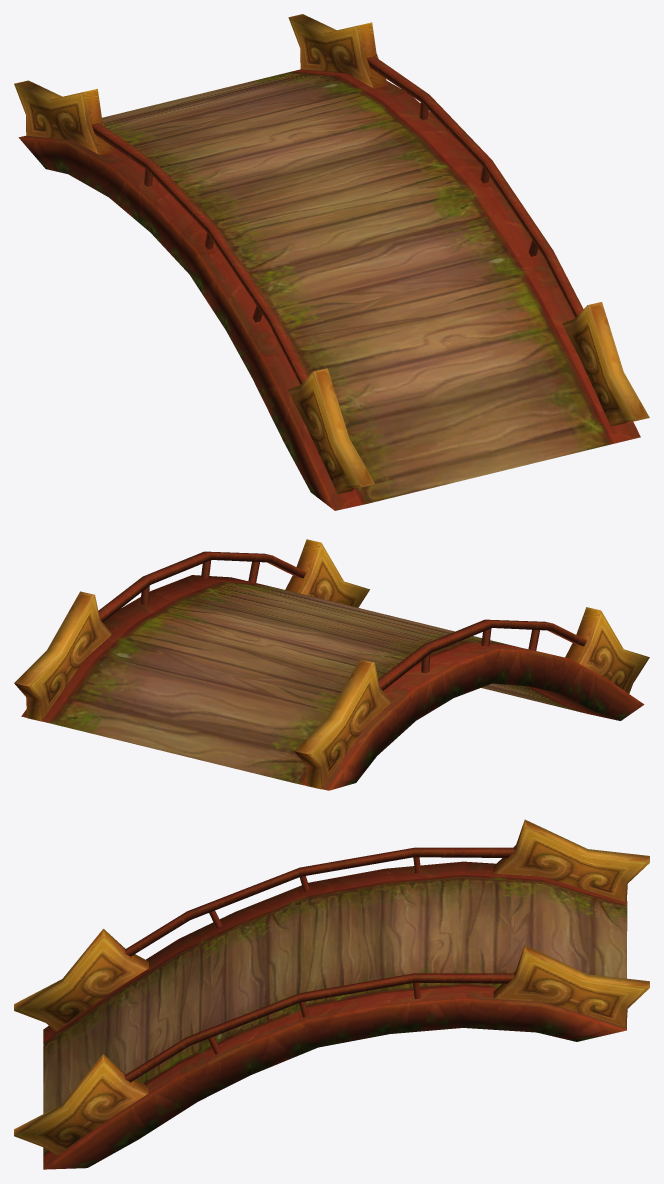
The model's file is environment_Building_jianmushenshu_001_g.FBX.
The picture shows the model from 3 angles, top to bottom: view 1: azimuth 30°, elevation 25°; view 2: azimuth 150°, elevation 25°; view 3: azimuth 270°, elevation 25°; orthographic projection. The views are drawn at different scales.
Parts seen in each view (by area): view 1: environment_Building_jianmushenshu_001_g; view 2: environment_Building_jianmushenshu_001_g; view 3: environment_Building_jianmushenshu_001_g.
Part boxes in pixels (box(x1,y1,x2,y2)): environment_Building_jianmushenshu_001_g: box(14, 14, 649, 510); environment_Building_jianmushenshu_001_g: box(14, 539, 649, 790); environment_Building_jianmushenshu_001_g: box(14, 819, 649, 1169).
Size of the model in its own units: 211 by 402 by 149.
